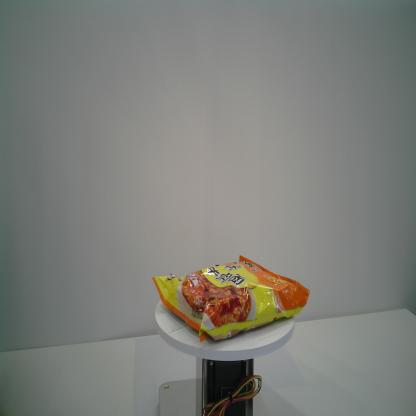Instant Noodles: (151, 254, 311, 344)
